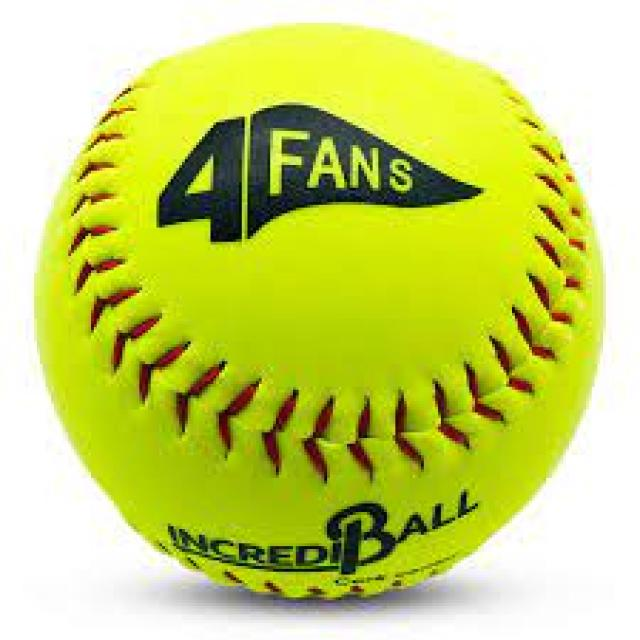softball ball: (36, 24, 610, 596)
